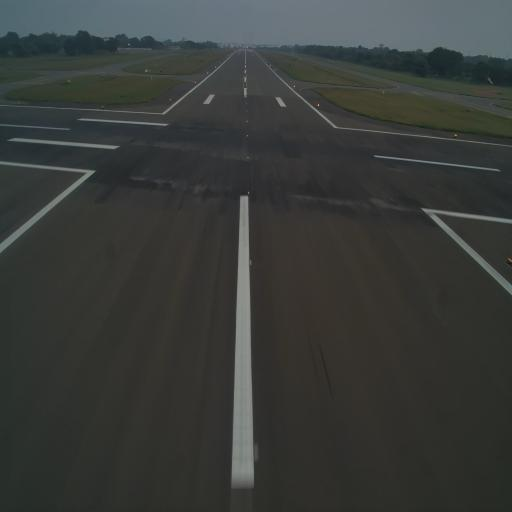on: (503, 252, 512, 274), (248, 257, 253, 271), (246, 188, 252, 196), (245, 153, 250, 161), (246, 131, 250, 140), (246, 116, 250, 124)
